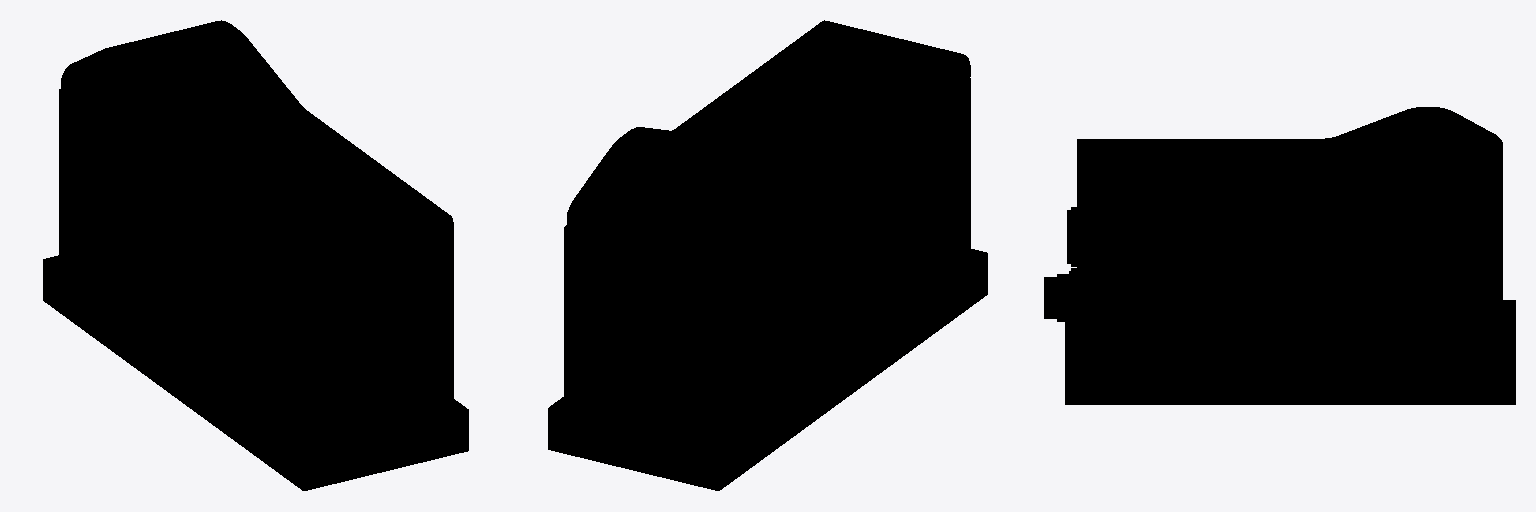
robot.urdf — gocator2330d:
<?xml version="1.0" ?>
<robot name="gocator2330d">

  <material name="black">
    <color rgba="0.0 0.0 0.0 1.0"/>
  </material>
  
  <!-- Base link for the robot end effector mounting point -->
  <link name="robot_ee"/>
  
  <!-- Gocator bracket mounted to robot end effector -->
  <joint name="gocator_bracket_joint" type="fixed">
    <parent link="robot_ee"/>
    <child link="gocator_bracket"/>
    <origin xyz="0 0 0.013" rpy="0 0 0"/>
  </joint>
  
  <link name="gocator_bracket">
    <visual>
      <origin xyz="-0.0275 -0.075 -0.013" rpy="0 0 0"/>
      <geometry>
        <mesh filename="package://gocator_ros/meshes/gocator_2330d/Bracket.STL" scale="0.001 0.001 0.001"/>
      </geometry>
      <material name="black"/>
    </visual>
  </link>
  
  <joint name="gocator_mount_joint" type="fixed">
    <parent link="gocator_bracket"/>
    <child link="gocator_mount"/>
    <origin xyz="0 0 0" rpy="0 0 0"/>
  </joint>
  
  <link name="gocator_mount">
    <visual>
      <origin xyz="-0.0245 -0.0817 0" rpy="0 0 0"/>
      <geometry>
        <mesh filename="package://gocator_ros/meshes/gocator_2330d/Gocator.STL" scale="0.001 0.001 0.001"/>
      </geometry>
      <material name="black"/>
    </visual>
  </link>
  
  <joint name="gocator_frame_joint" type="fixed">
    <parent link="gocator_mount"/>
    <child link="gocator_frame"/>
    <origin xyz="0 -0.032 0.0615" rpy="0 3.14159 0"/>
  </joint>
  
  <link name="gocator_frame"/>
</robot>

--- Render facts (derived) ---
Views: 3 orthographic renders of the robot side by side, from view 1: azimuth 30°, elevation 25°; view 2: azimuth 150°, elevation 25°; view 3: azimuth 270°, elevation 25°.
Robot: gocator2330d — 4 links, 3 joints (3 fixed); root link robot_ee; default pose: all joints at 0.
Links seen in each view (by area): view 1: gocator_mount, gocator_bracket; view 2: gocator_mount, gocator_bracket; view 3: gocator_mount, gocator_bracket.
Link boxes in pixels (bbox=[...]): gocator_mount: bbox=[59, 20, 453, 441]; gocator_bracket: bbox=[43, 255, 468, 490]; gocator_mount: bbox=[564, 20, 970, 439]; gocator_bracket: bbox=[548, 249, 987, 490]; gocator_mount: bbox=[1044, 107, 1502, 363]; gocator_bracket: bbox=[1065, 300, 1515, 404].
Bounding box of the posed robot: 0.055 × 0.1567 × 0.088 m (x, y, z).
Meshes: 2 distinct files referenced, 2 mesh visuals loaded (2 binary STL).
